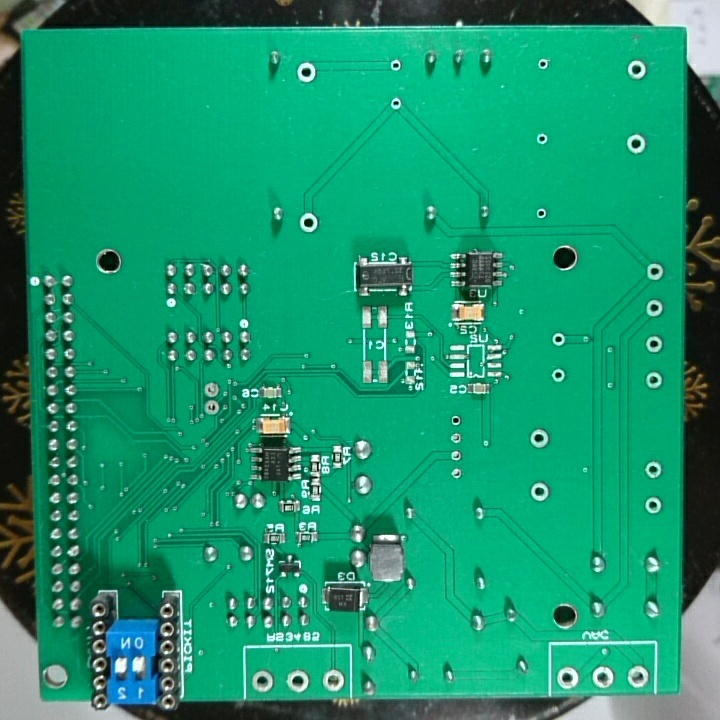F: (282, 667, 311, 695), (623, 128, 648, 158), (623, 56, 649, 84), (556, 665, 582, 692), (320, 667, 346, 694), (527, 425, 552, 453), (250, 669, 276, 695), (625, 665, 652, 689), (294, 60, 318, 86), (642, 368, 665, 395), (591, 666, 616, 690), (528, 479, 551, 505), (297, 210, 320, 235), (642, 296, 667, 319), (644, 260, 667, 283), (642, 332, 665, 355), (642, 458, 664, 481), (642, 494, 662, 518), (386, 56, 407, 75), (549, 365, 568, 386), (202, 397, 221, 418), (550, 329, 568, 351), (532, 204, 551, 223), (201, 380, 221, 398), (388, 94, 405, 115), (534, 130, 551, 149), (535, 55, 551, 75), (447, 465, 465, 482), (448, 430, 465, 446), (449, 412, 464, 430), (448, 447, 465, 462)
